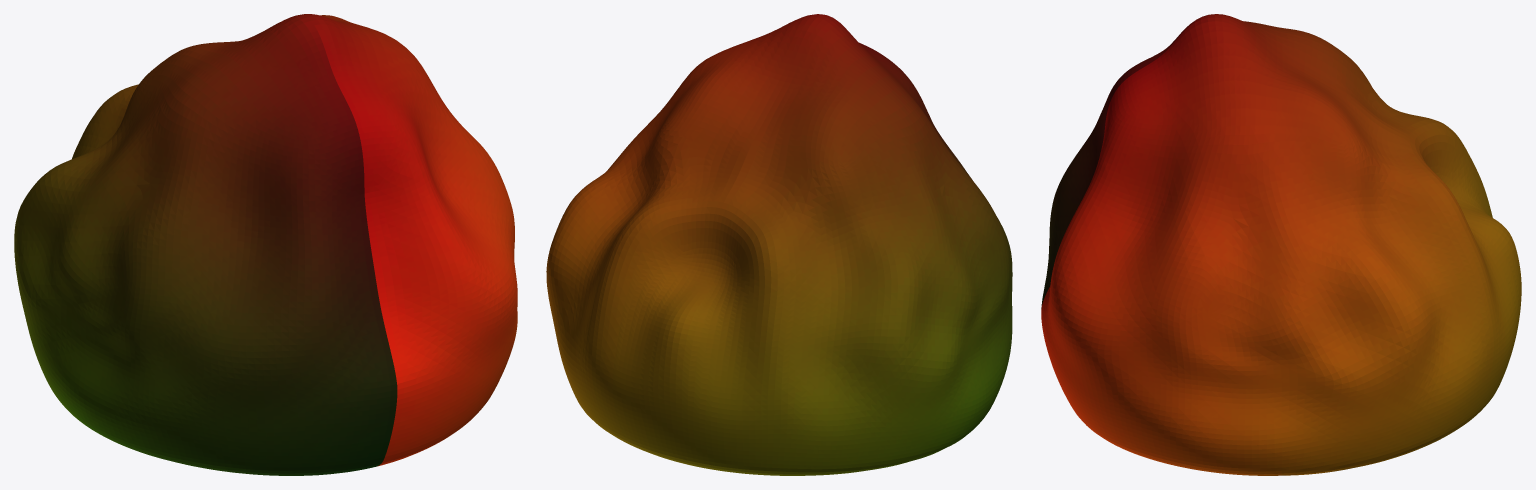
The model's file is Blob_Enemy.obj.
3 views of the same model, side by side, from view 1: azimuth 30°, elevation 25°; view 2: azimuth 150°, elevation 25°; view 3: azimuth 270°, elevation 25° (orthographic). The views are drawn at different scales.
Visible parts, largest first — view 1: Group6280; view 2: Group6280; view 3: Group6280.
Part boxes in pixels (left/top/right/bottom): Group6280: left=14, top=14, right=517, bottom=475; Group6280: left=546, top=14, right=1012, bottom=475; Group6280: left=1041, top=14, right=1521, bottom=475.
Bounding box in the file's own units: 1.92 × 1.75 × 1.99.
Materials: 1 (1 with a texture image).
